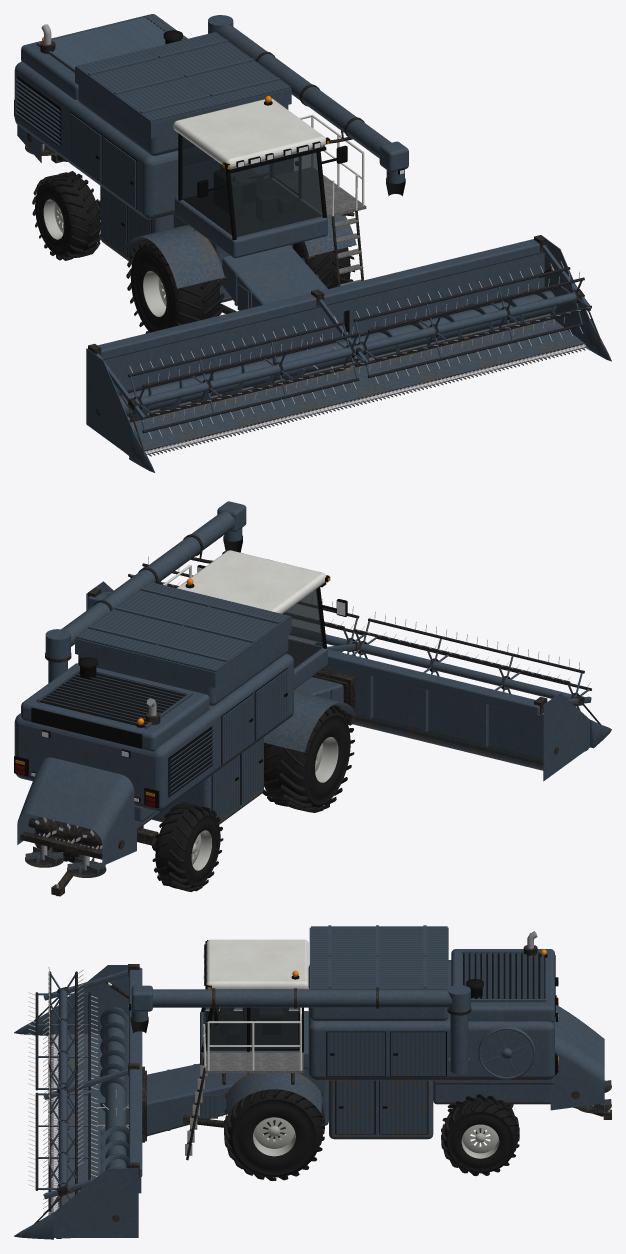
The model's file is combine.glb.
The picture shows the model from 3 angles, top to bottom: view 1: azimuth 30°, elevation 25°; view 2: azimuth 150°, elevation 25°; view 3: azimuth 270°, elevation 25°; orthographic projection. The views are drawn at different scales.
Parts seen in each view (by area): view 1: combine, header, reel, header_auger, feeder, grain_tank_cover_R, grain_tank_cover_L, wheel_FR, wheel_RR, unloading_auger, wheel_FL, ladder (+2 smaller); view 2: combine, header, wheel_FR, reel, grain_tank_cover_R, grain_tank_cover_L, wheel_RR, unloading_auger, straw_chopper, feeder, spreader_L, spreader_R; view 3: combine, header, reel, wheel_FL, unloading_auger, wheel_RL, grain_tank_cover_L, grain_tank_cover_R, feeder, header_auger, door_L, reel_arms (+1 smaller).
Part boxes in pixels (left/top/right/bottom): combine: left=14, top=14, right=366, bottom=302; header: left=86, top=235, right=611, bottom=472; reel: left=120, top=261, right=591, bottom=438; header_auger: left=116, top=288, right=556, bottom=418; feeder: left=222, top=245, right=344, bottom=350; grain_tank_cover_R: left=75, top=49, right=220, bottom=122; grain_tank_cover_L: left=146, top=32, right=290, bottom=105; wheel_FR: left=126, top=239, right=224, bottom=333; wheel_RR: left=32, top=171, right=100, bottom=260; unloading_auger: left=208, top=15, right=408, bottom=172; wheel_FL: left=293, top=241, right=354, bottom=288; ladder: left=331, top=174, right=363, bottom=286; combine: left=14, top=550, right=356, bottom=896; header: left=86, top=581, right=611, bottom=781; wheel_FR: left=262, top=705, right=354, bottom=812; reel: left=128, top=556, right=591, bottom=713; grain_tank_cover_R: left=145, top=599, right=290, bottom=672; grain_tank_cover_L: left=75, top=582, right=219, bottom=655; wheel_RR: left=152, top=802, right=223, bottom=891; unloading_auger: left=45, top=501, right=246, bottom=659; straw_chopper: left=35, top=816, right=102, bottom=849; feeder: left=294, top=675, right=347, bottom=717; spreader_L: left=25, top=845, right=64, bottom=867; spreader_R: left=67, top=855, right=106, bottom=877; combine: left=200, top=927, right=611, bottom=1139; header: left=14, top=964, right=144, bottom=1239; reel: left=28, top=967, right=97, bottom=1213; wheel_FL: left=224, top=1089, right=324, bottom=1180; unloading_auger: left=131, top=985, right=470, bottom=1012; wheel_RL: left=441, top=1094, right=519, bottom=1175; grain_tank_cover_L: left=311, top=956, right=447, bottom=989; grain_tank_cover_R: left=311, top=925, right=447, bottom=957; feeder: left=145, top=1063, right=247, bottom=1141; header_auger: left=97, top=1007, right=128, bottom=1174; door_L: left=248, top=1007, right=299, bottom=1050; reel_arms: left=43, top=969, right=127, bottom=1198.
Bounding box in the file's own units: 9.27 × 4 × 11.32.
Materials: 39 (17 with a texture image).
